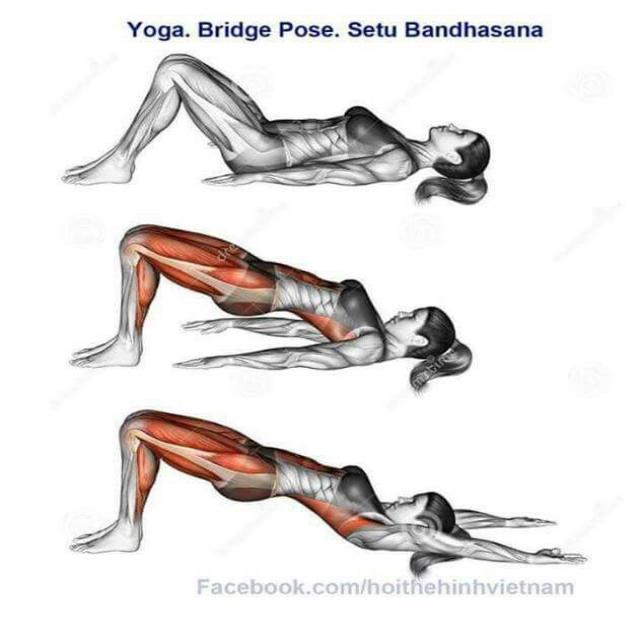yoga-pose bridge: (70, 48, 520, 208)
